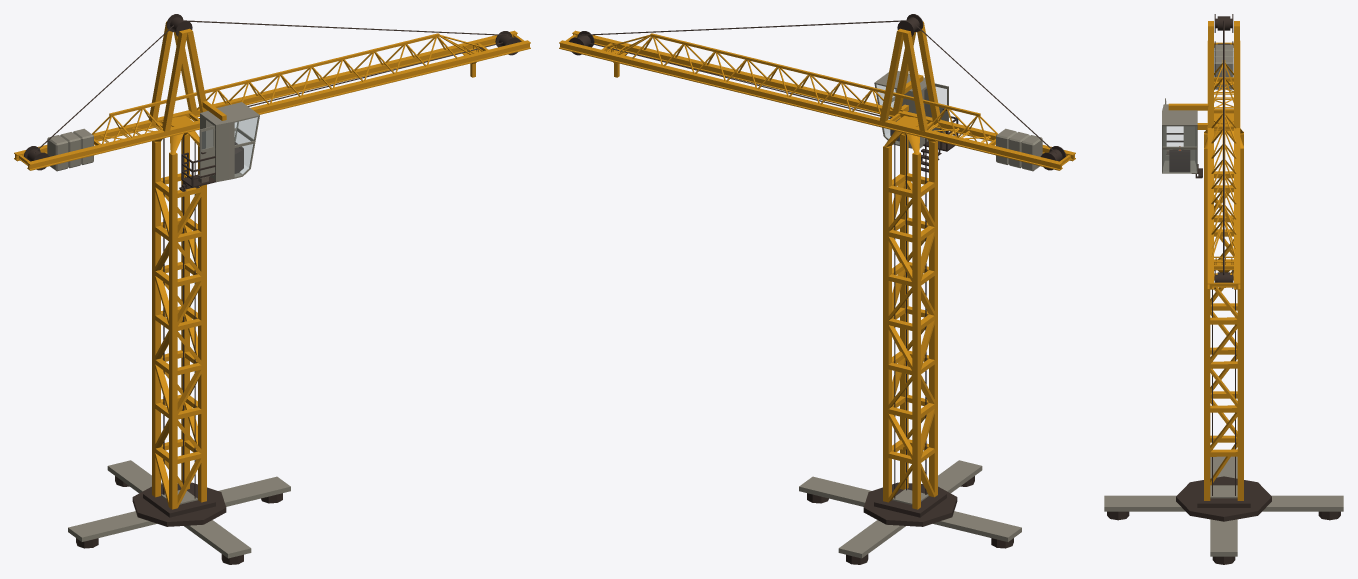
File: dzwig.fbx
The picture shows the model from 3 angles, left to right: view 1: azimuth 30°, elevation 25°; view 2: azimuth 150°, elevation 25°; view 3: azimuth 270°, elevation 25°; orthographic projection.
Visible parts, largest first — view 1: podstawa, ramie, kabina, szyby, schody, Cube.054; view 2: podstawa, ramie, kabina; view 3: podstawa, ramie, kabina, szyby, konsola, winda.
Part boxes in pixels (bbox=[...]): podstawa: bbox=[68, 117, 290, 564]; ramie: bbox=[14, 14, 530, 171]; kabina: bbox=[200, 101, 259, 182]; szyby: bbox=[234, 117, 257, 176]; schody: bbox=[179, 152, 215, 191]; Cube.054: bbox=[199, 125, 215, 178]; podstawa: bbox=[799, 117, 1021, 564]; ramie: bbox=[559, 14, 1075, 171]; kabina: bbox=[874, 71, 932, 148]; podstawa: bbox=[1104, 114, 1343, 564]; ramie: bbox=[1207, 14, 1240, 289]; kabina: bbox=[1162, 103, 1208, 173]; szyby: bbox=[1163, 126, 1196, 172]; konsola: bbox=[1169, 149, 1190, 172]; winda: bbox=[1210, 485, 1237, 498].
Bounding box in the file's own units: 846 × 2032 × 1953.
